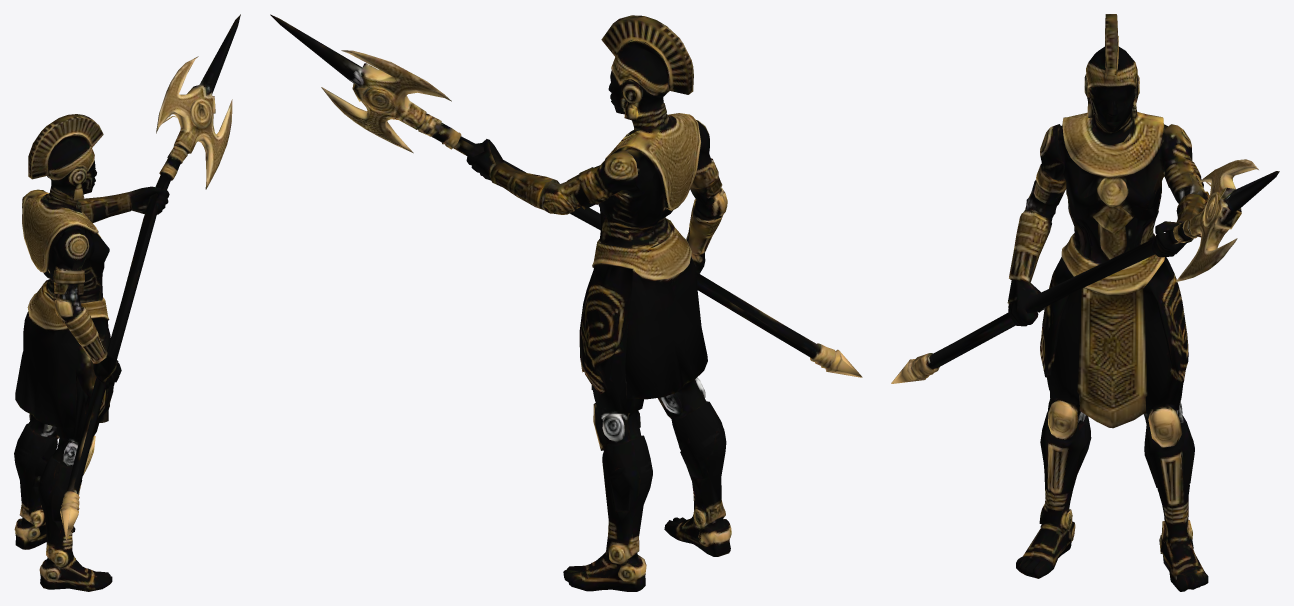
Rendered from ARMURE4.glb.
The picture shows the model from 3 angles, left to right: view 1: azimuth 30°, elevation 25°; view 2: azimuth 150°, elevation 25°; view 3: azimuth 270°, elevation 25°; orthographic projection. The views are drawn at different scales.
Visible parts, largest first — view 1: node_0; view 2: node_0; view 3: node_0.
Part boxes in pixels (x1=…): node_0: x1=14, y1=14, x2=240, y2=591; node_0: x1=270, y1=14, x2=862, y2=591; node_0: x1=891, y1=14, x2=1279, y2=591.
Size of the model in its own units: 0.6655 by 0.8576 by 0.5443.
Materials: 1 (1 with a texture image).
